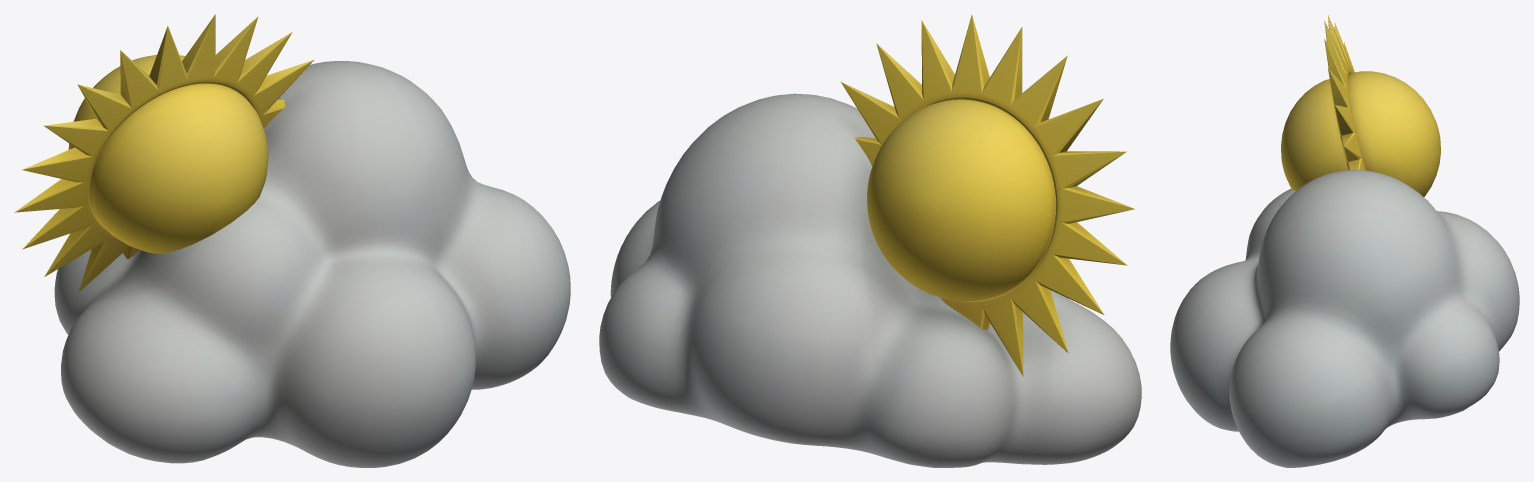
Rendered from sunCloud.glb.
3 views of the same model, side by side, from view 1: azimuth 30°, elevation 25°; view 2: azimuth 150°, elevation 25°; view 3: azimuth 270°, elevation 25° (orthographic). The views are drawn at different scales.
Visible parts, largest first — view 1: node_id29; view 2: node_id29; view 3: node_id29.
Part boxes in pixels (bbox=[...]): node_id29: bbox=[14, 14, 570, 467]; node_id29: bbox=[599, 14, 1141, 467]; node_id29: bbox=[1170, 14, 1519, 467].
Bounding box in the file's own units: 0.512 × 0.4121 × 0.3847.
1 material, 1 textured.
